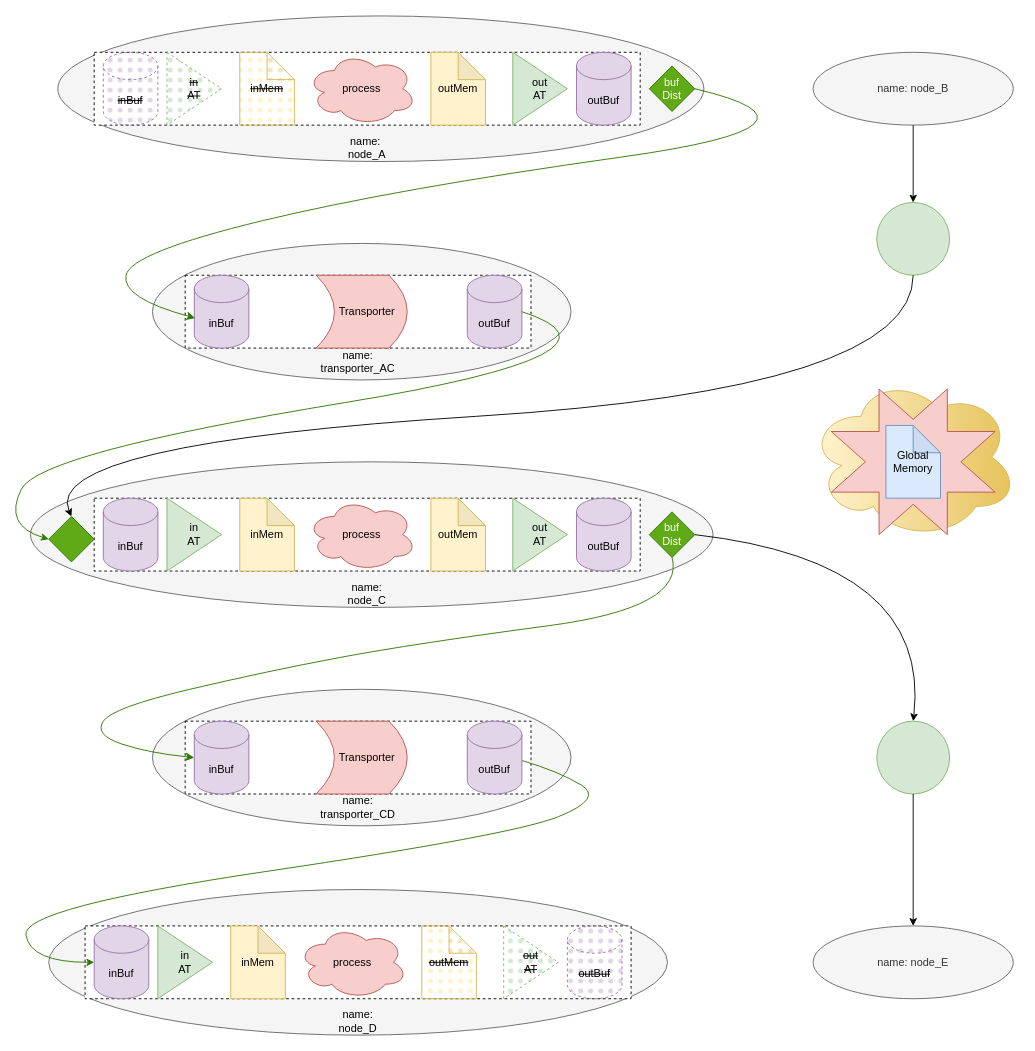
This 1035x1051 diagram has some shape labels left out. Here are the shapes that lost their labels. From the top down, the centre of each, then its label:
[913,238]: name: transporter _BC
[71,539]: buf Cons
[913,757]: name: transporter _CE
